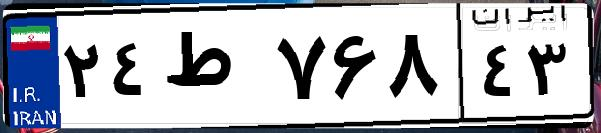2: (57, 26, 110, 100)
3: (525, 38, 570, 115)
4: (475, 38, 525, 113), (110, 28, 158, 98)
6: (330, 28, 385, 110)
7: (270, 28, 330, 110)
8: (385, 28, 445, 110)
ط: (158, 20, 270, 120)
